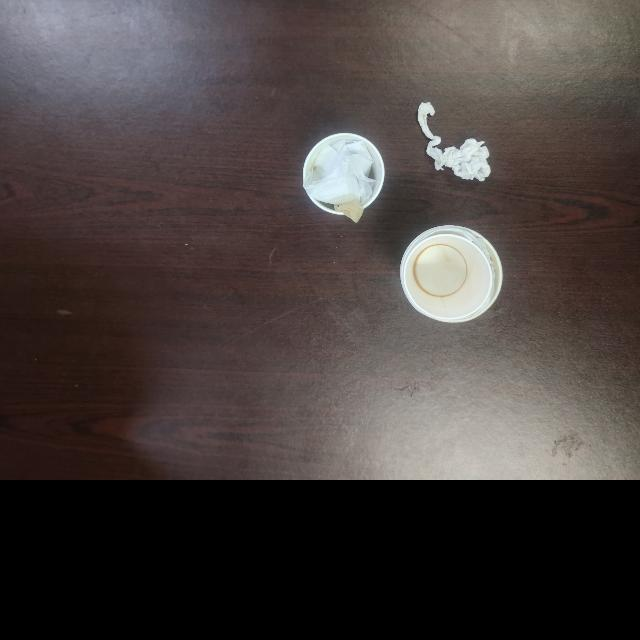kitchen paper: (414, 95, 496, 185), (302, 135, 378, 214)
